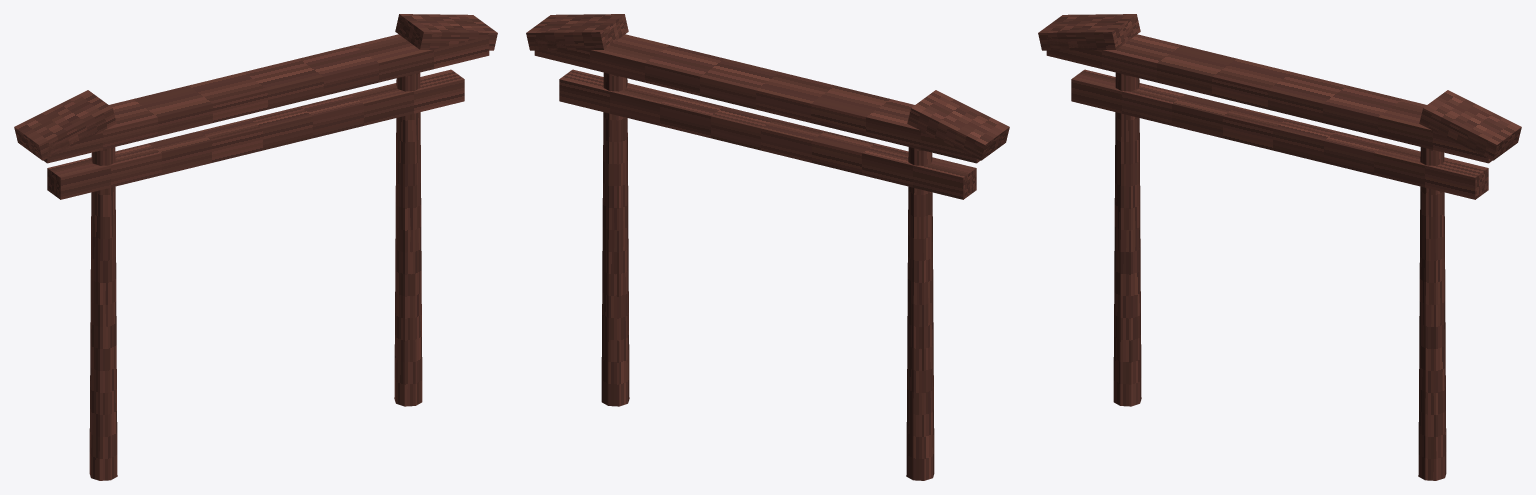
The model's file is gate_55.glb.
The picture shows the model from 3 angles, left to right: view 1: azimuth 30°, elevation 25°; view 2: azimuth 150°, elevation 25°; view 3: azimuth 330°, elevation 25°; orthographic projection.
Parts seen in each view (by area): view 1: Roof, Lintel, Pillar, Pillar.001, RaisedEave, RaisedEave.001; view 2: Roof, Lintel, Pillar, Pillar.001, RaisedEave, RaisedEave.001; view 3: Roof, Lintel, Pillar.001, Pillar, RaisedEave.001, RaisedEave.
Part boxes in pixels (x1,y1,x2,y2): Roof: (43,34,489,163); Lintel: (47,69,464,199); Pillar: (89,147,117,480); Pillar.001: (394,72,422,406); RaisedEave: (14,90,116,160); RaisedEave.001: (395,14,497,50); Roof: (534,34,980,163); Lintel: (559,69,976,199); Pillar: (906,147,934,480); Pillar.001: (601,72,629,406); RaisedEave: (907,90,1009,160); RaisedEave.001: (526,14,628,50); Roof: (1046,34,1492,163); Lintel: (1071,69,1488,199); Pillar.001: (1418,147,1446,480); Pillar: (1113,72,1141,406); RaisedEave.001: (1419,90,1521,160); RaisedEave: (1038,14,1140,50).
Size of the model in its own units: 6.96 by 5.46 by 0.65.
1 material, 1 textured.
